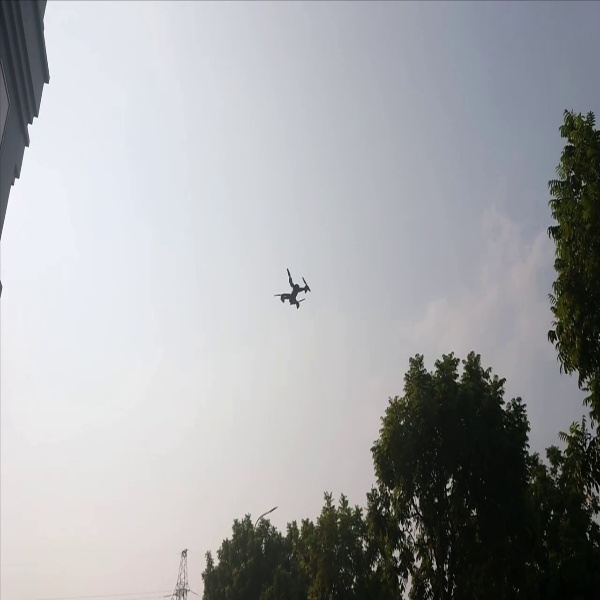drone: (265, 258, 319, 321)
